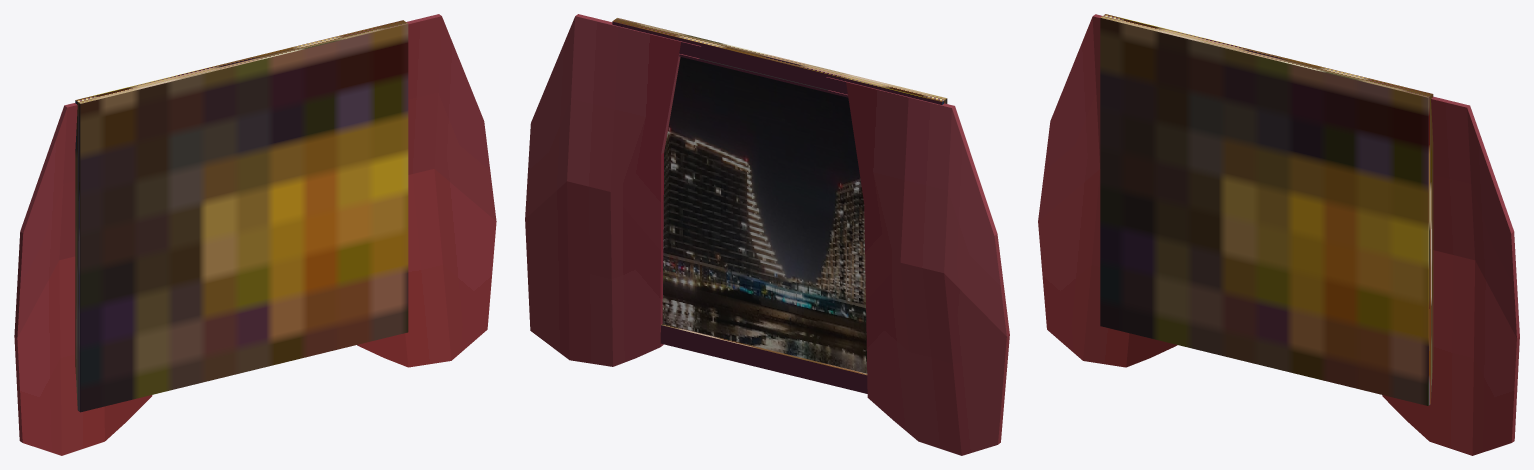
File: bg pod vodom prozor.glb
The picture shows the model from 3 angles, left to right: view 1: azimuth 30°, elevation 25°; view 2: azimuth 150°, elevation 25°; view 3: azimuth 330°, elevation 25°; orthographic projection.
Parts seen in each view (by area): view 1: Cube.013; view 2: Cube.013; view 3: Cube.013.
Part boxes in pixels (left/top/right/bottom): Cube.013: left=14, top=14, right=496, bottom=455; Cube.013: left=525, top=14, right=1009, bottom=455; Cube.013: left=1038, top=14, right=1519, bottom=455.
Size of the model in its own units: 7.4 by 5.15 by 0.3669.
Materials: 5 (3 with a texture image).
